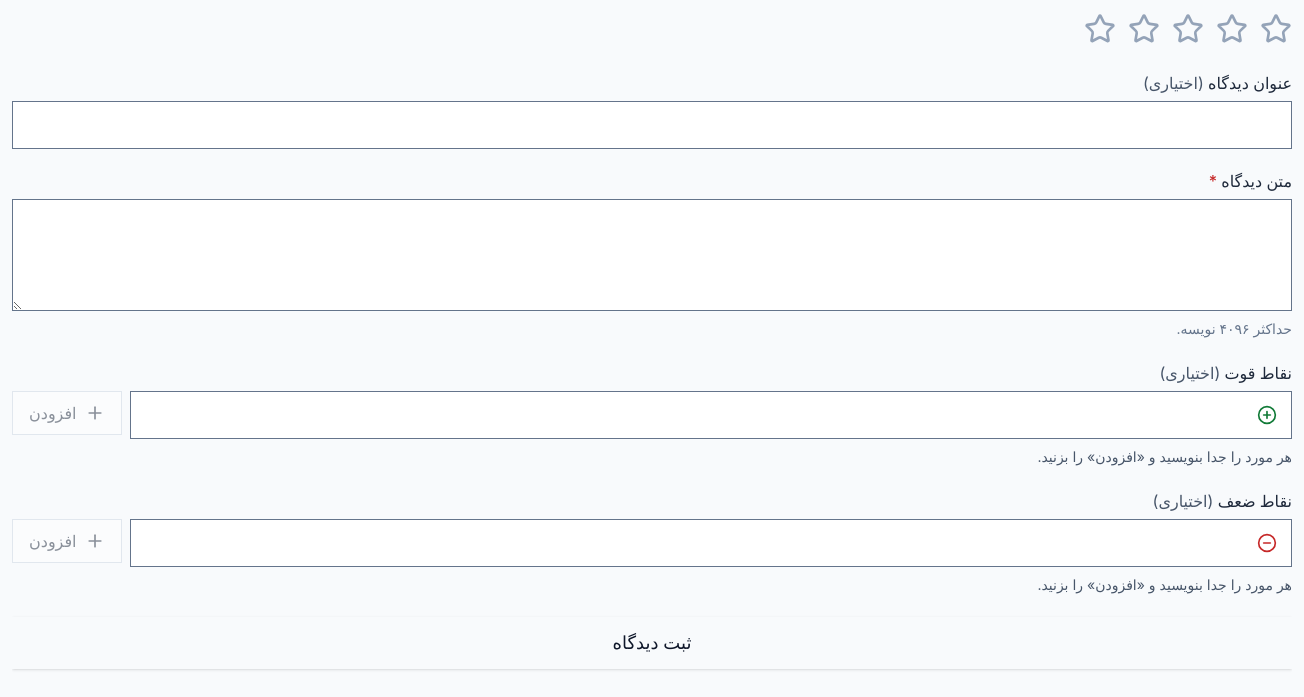
Test case: the API’s answers › 503 feature_disabled of another feature: said, the submit stays (comments are not off)
The width and height of the screenshot is (1304, 697).
Click the radio button named "۲ ستاره: بد" at x=1232, y=29, box [1216,13,1248,45]
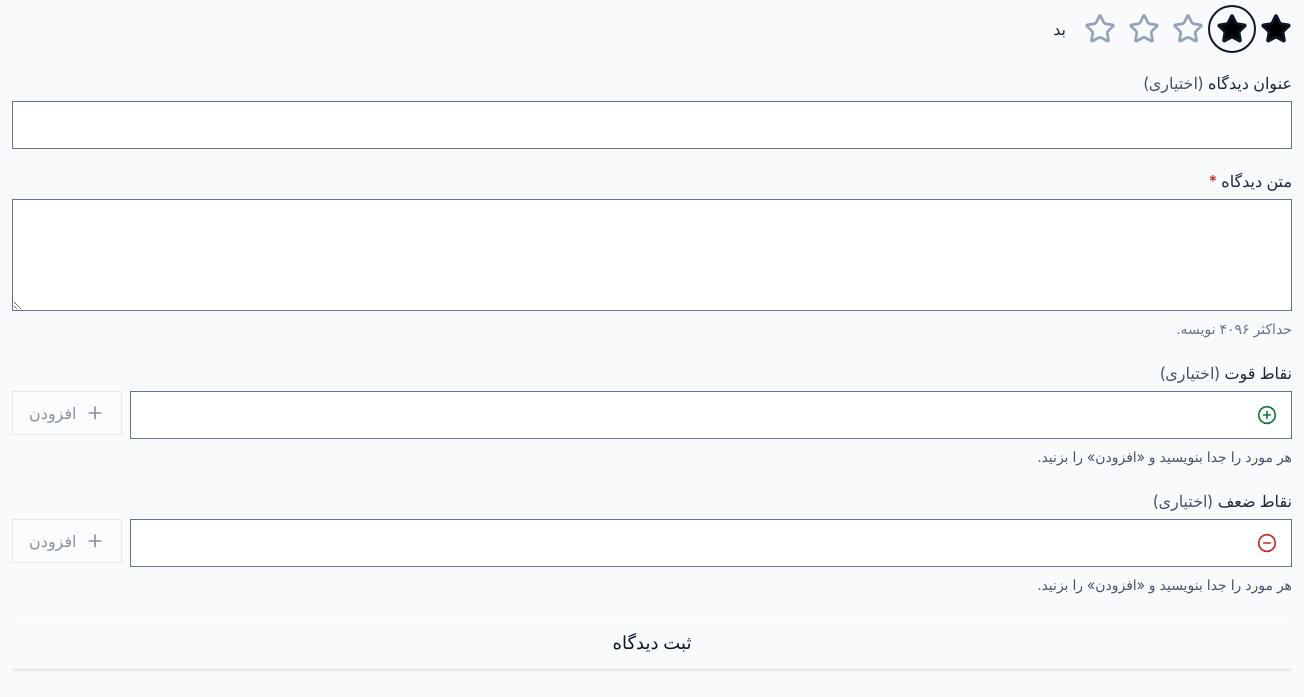
Type "متن" into the text box labelled "متن دیدگاه *" at x=652, y=255, box [12,199,1292,311]
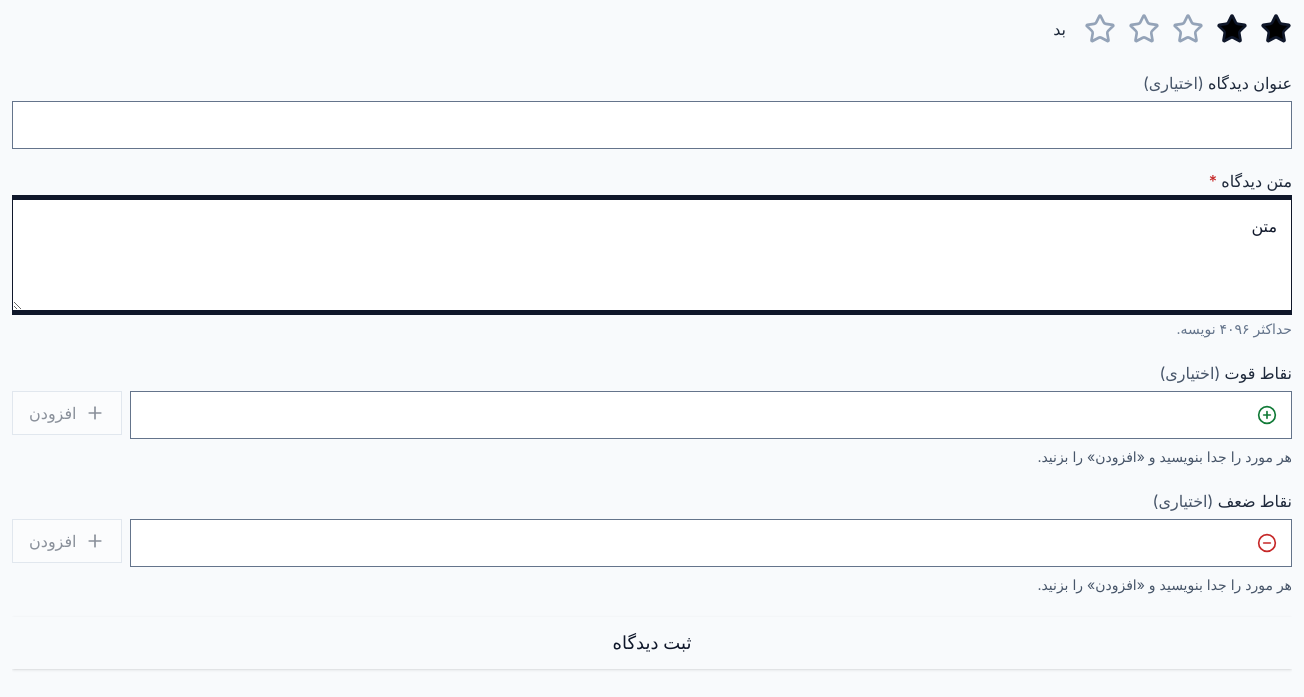
Click the button "ثبت دیدگاه" at x=652, y=643, box [12,617,1292,669]
(page scrolled)
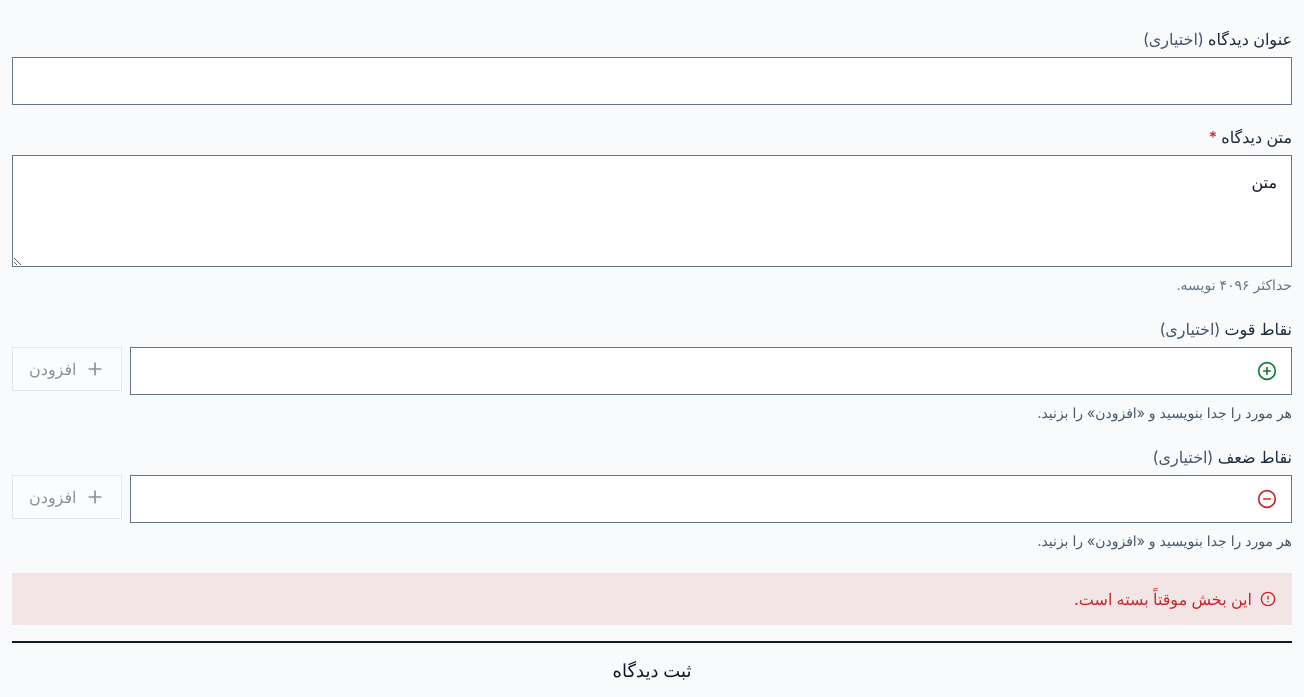
Expected: the button "ثبت دیدگاه" is enabled, [12,645,1292,696]
Result: the text "این بخش موقتاً بسته است." is shown at [1074,585,1252,613]
